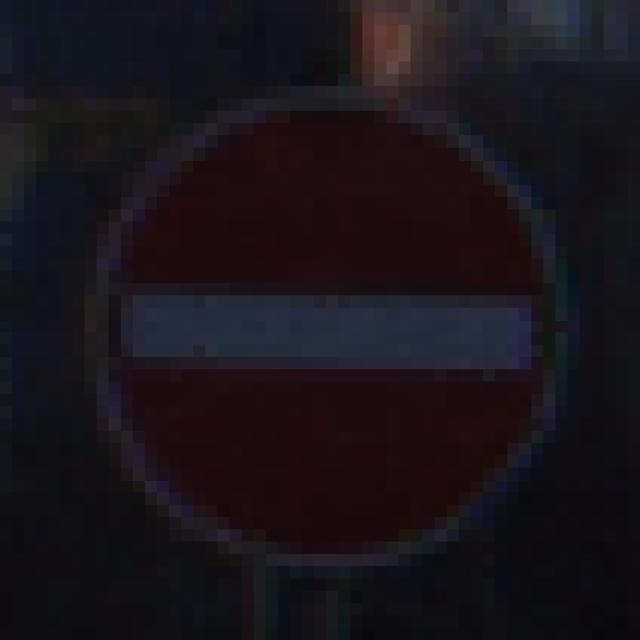No Entry: (74, 63, 581, 580)
